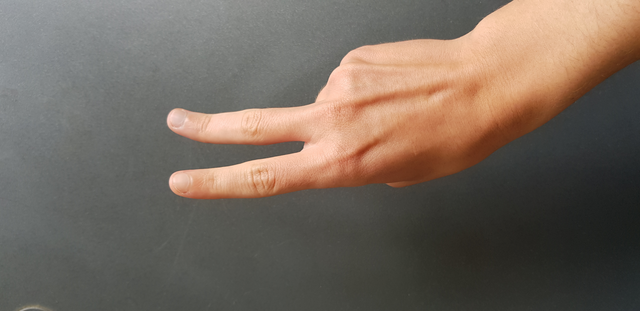Scissors: (139, 33, 511, 216)
